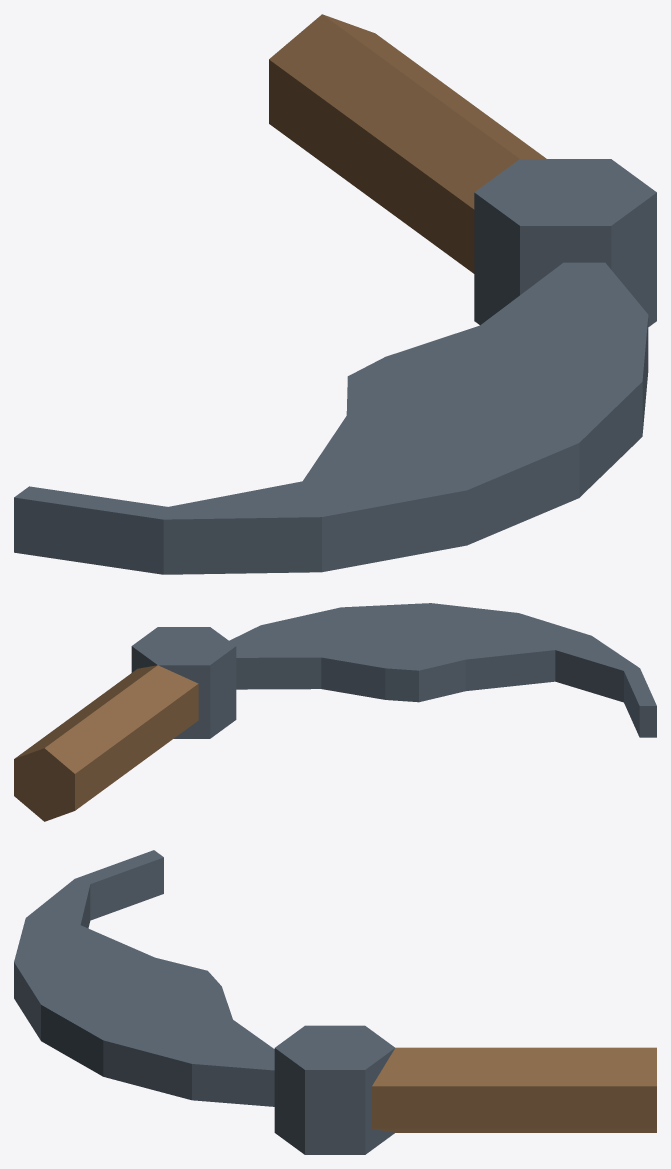
Rendered from work-sickle.glb.
The picture shows the model from 3 angles, top to bottom: view 1: azimuth 30°, elevation 25°; view 2: azimuth 150°, elevation 25°; view 3: azimuth 270°, elevation 25°; orthographic projection. The views are drawn at different scales.
Parts seen in each view (by area): view 1: work-sickle; view 2: work-sickle; view 3: work-sickle.
Boxes of the visible parts, left/top/right/bottom form: work-sickle: left=14, top=14, right=656, bottom=574; work-sickle: left=14, top=603, right=656, bottom=821; work-sickle: left=14, top=850, right=656, bottom=1154.
Bounding box in the file's own units: 0.8617 × 0.14 × 0.9588.
Materials: 1 (1 with a texture image).
